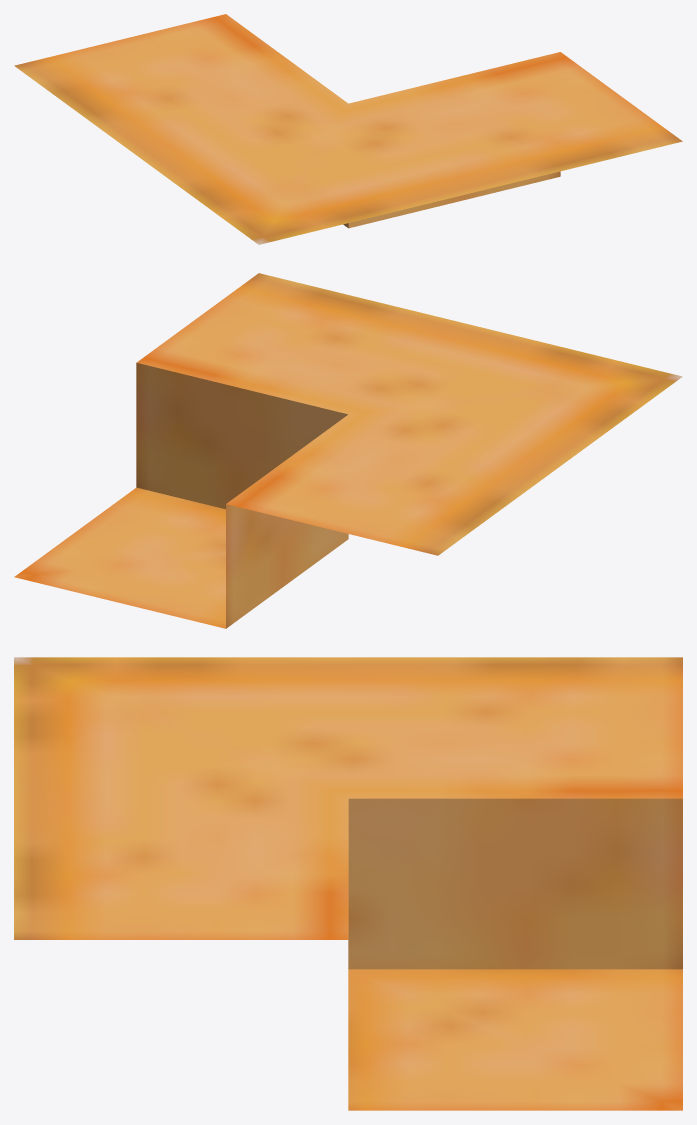
Rendered from geo_stepLowClosed.fbx.
3 renders of one model, top to bottom at view 1: azimuth 30°, elevation 25°; view 2: azimuth 150°, elevation 25°; view 3: azimuth 270°, elevation 25°, orthographic. The views are drawn at different scales.
Visible parts, largest first — view 1: geo_stepLowClosed; view 2: geo_stepLowClosed; view 3: geo_stepLowClosed.
Part boxes in pixels (<box>): geo_stepLowClosed: <box>14,14,682,244</box>; geo_stepLowClosed: <box>14,273,682,628</box>; geo_stepLowClosed: <box>14,657,682,1110</box>.
Size of the model in its own units: 2 by 0.5625 by 2.
1 material, 1 textured.
